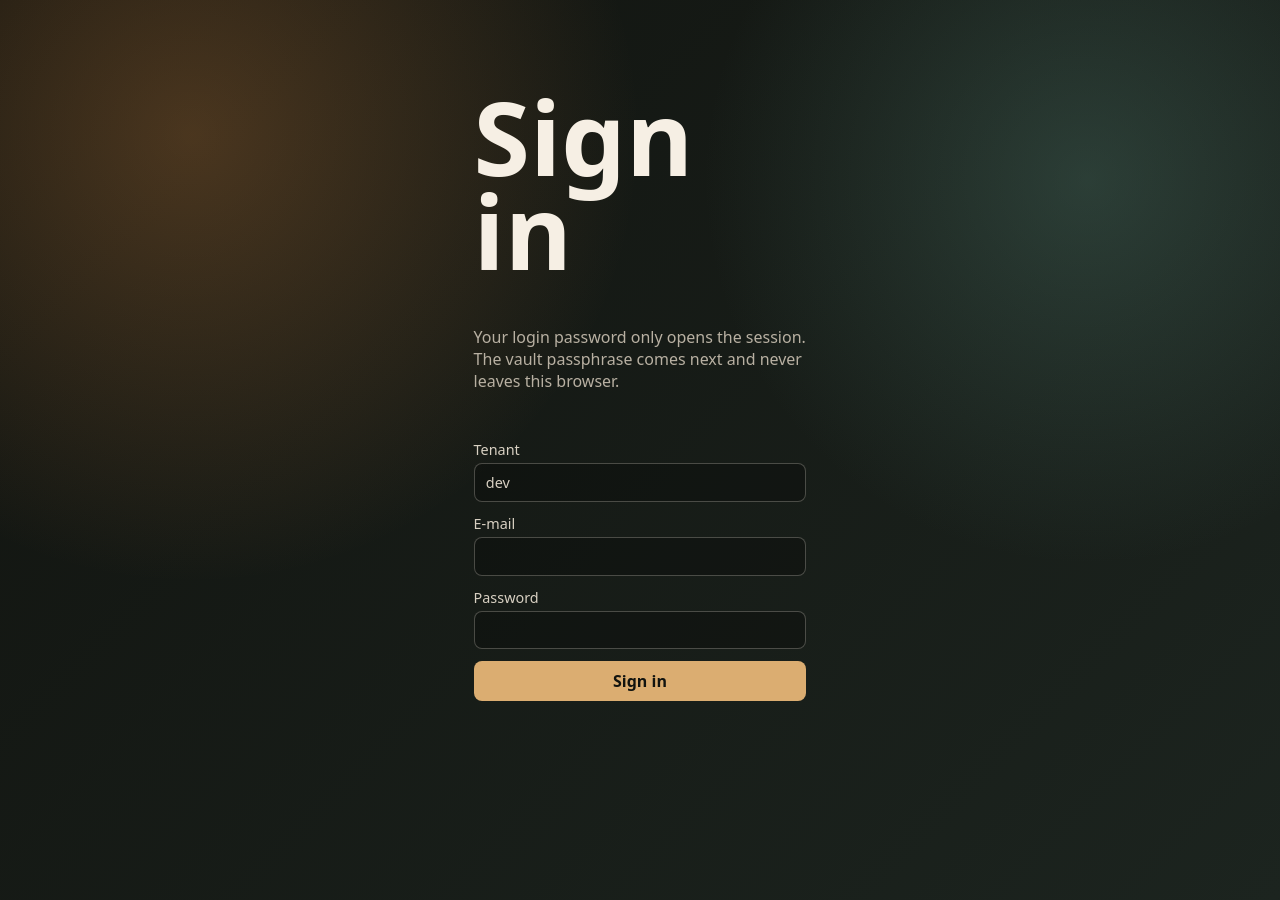
it: LoginPage › shows a generic error on 401 and keeps no session
The image size is (1280, 900).
Type "alice@example.test" into the field labelled "E-mail".
click(640, 556); type("alice@example.test")  # box [474, 537, 806, 576]
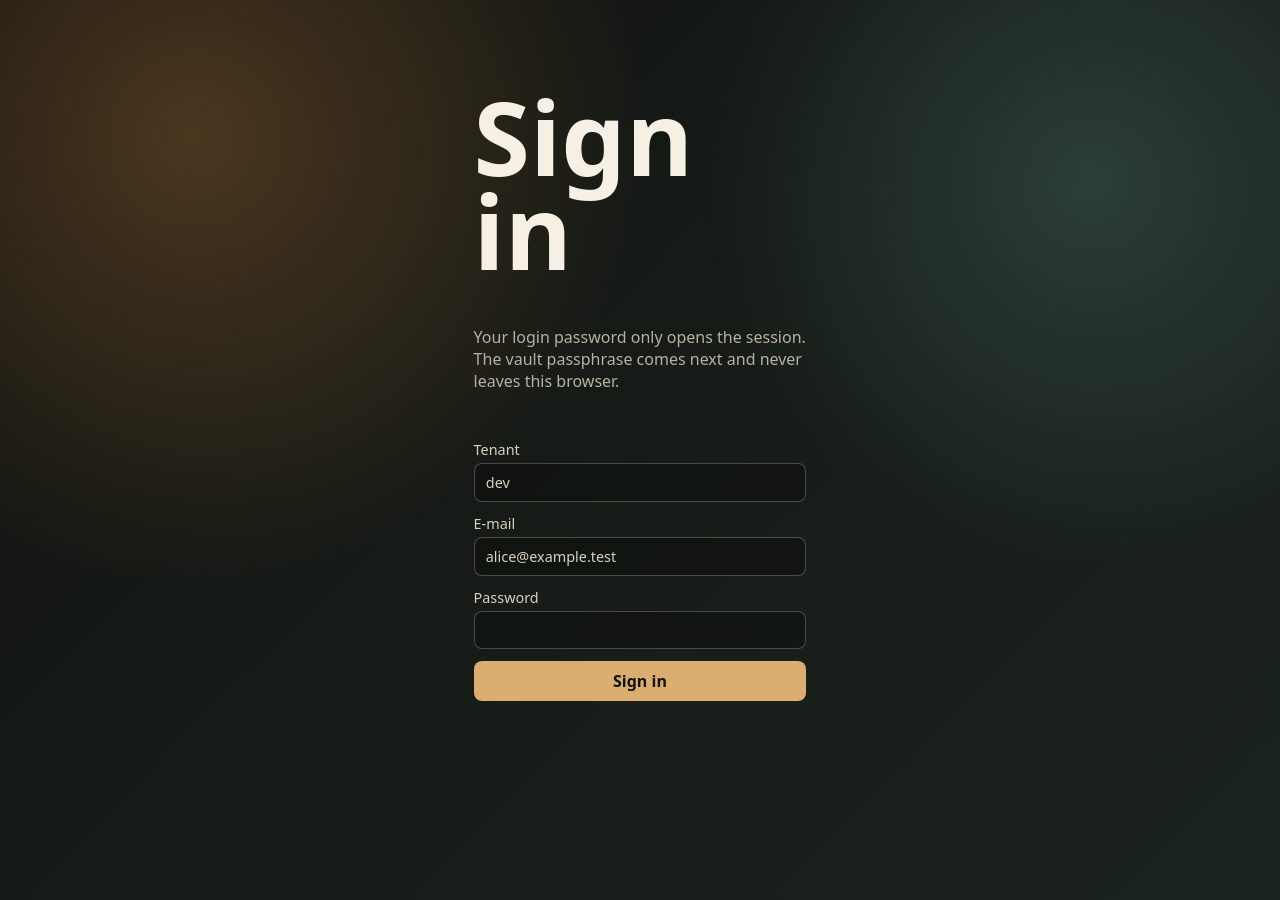
Type "wrong-password" into the password field labelled "Password".
click(640, 630); type("wrong-password")  # box [474, 611, 806, 649]
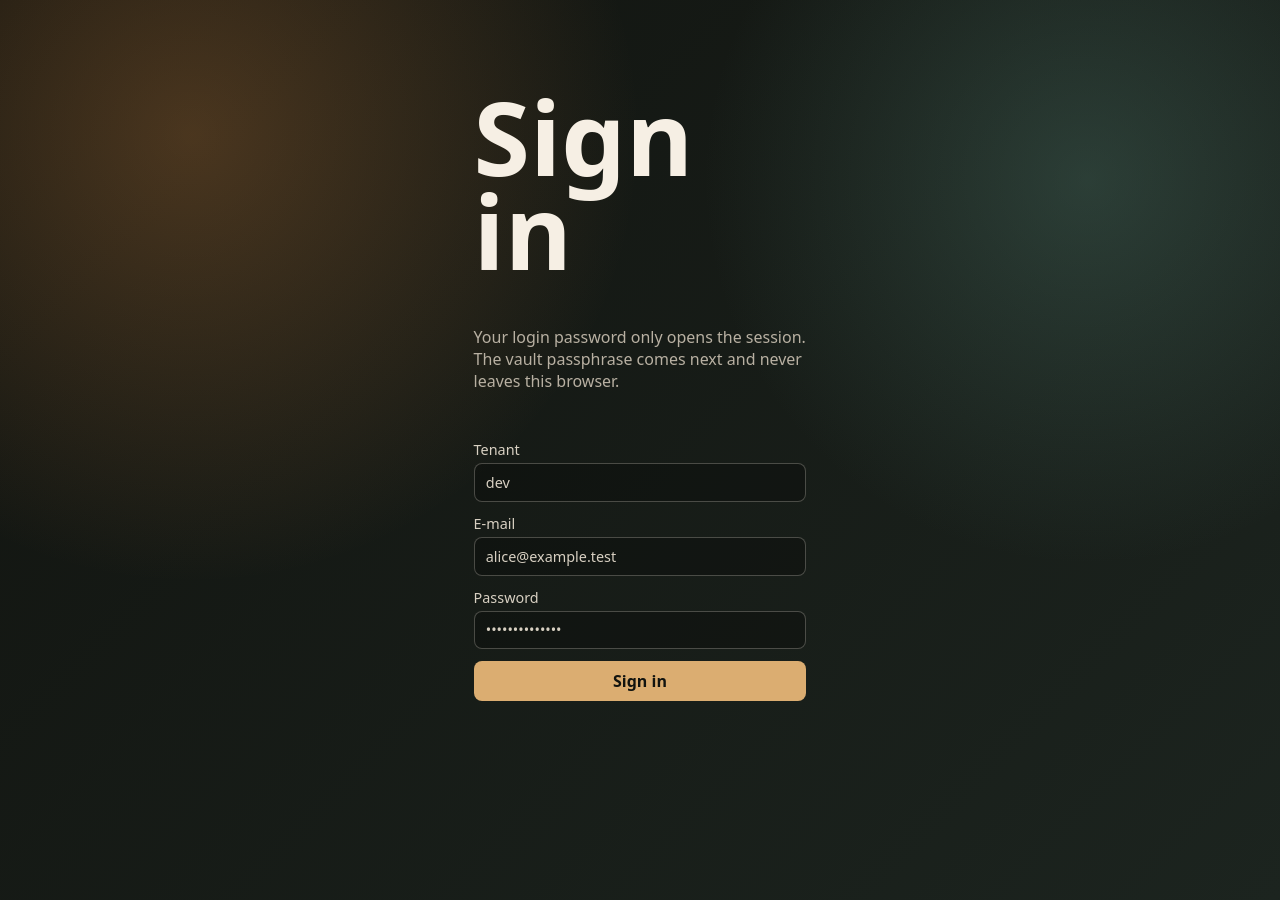
Click the button "Sign in".
click(640, 681)  # box [474, 661, 806, 701]
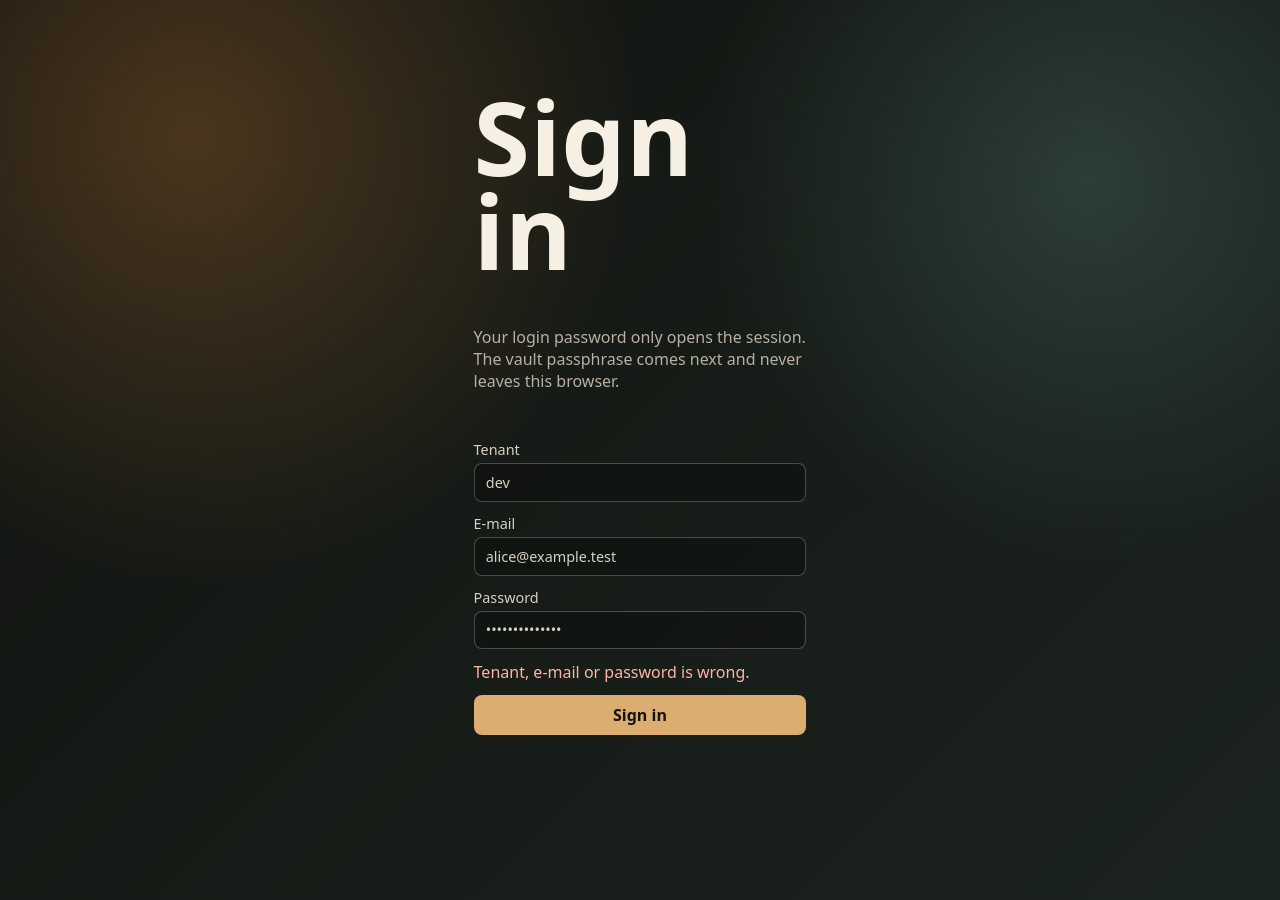
Expected: the message reads "Tenant, e-mail or password is wrong.", [474, 661, 750, 683]
